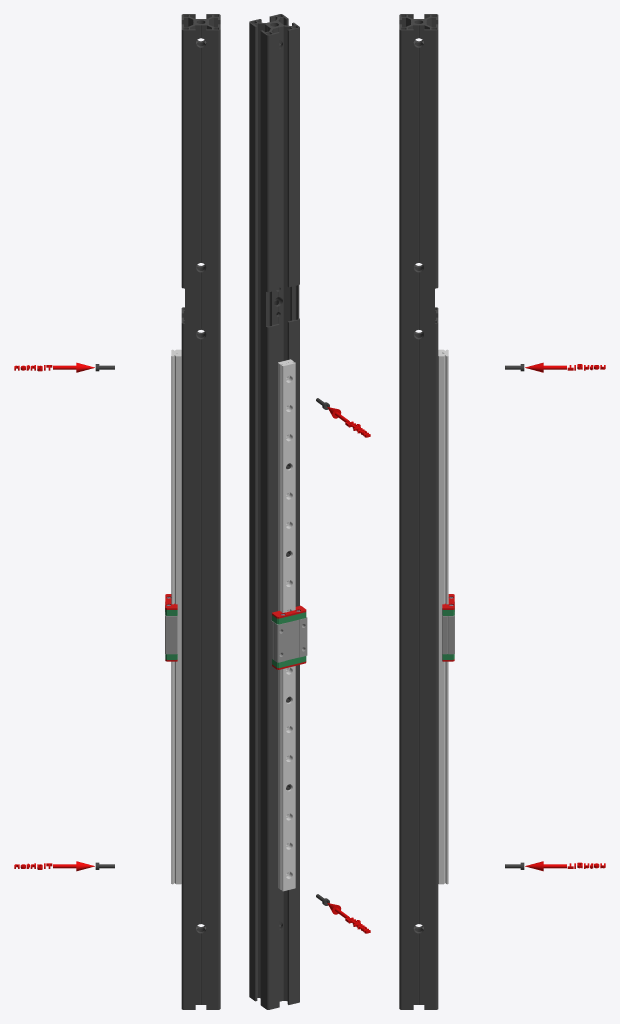
The picture shows the model from 3 angles, left to right: view 1: azimuth 90°, elevation 25°; view 2: azimuth 210°, elevation 25°; view 3: azimuth 270°, elevation 25°; orthographic projection.
Visible parts, largest first — view 1: 01_01__XP__Alu_3030_Pillar___V2.0 v24, MGNR12R450HM_FILE_2 v1, MGN12H, LINEAR GUIDE BLOCK v1; view 2: 01_01__XP__Alu_3030_Pillar___V2.0 v24, MGNR12R450HM_FILE_2 v1, MGN12H, LINEAR GUIDE BLOCK v1; view 3: 01_01__XP__Alu_3030_Pillar___V2.0 v24, MGNR12R450HM_FILE_2 v1, MGN12H, LINEAR GUIDE BLOCK v1.
Boxes of the visible parts, box(x1,y1,x2,y2) form: 01_01__XP__Alu_3030_Pillar___V2.0 v24: box(181, 14, 220, 1009); MGNR12R450HM_FILE_2 v1: box(171, 349, 181, 884); MGN12H, LINEAR GUIDE BLOCK v1: box(165, 602, 177, 654); 01_01__XP__Alu_3030_Pillar___V2.0 v24: box(249, 14, 299, 1009); MGNR12R450HM_FILE_2 v1: box(278, 359, 295, 891); MGN12H, LINEAR GUIDE BLOCK v1: box(271, 617, 307, 662); 01_01__XP__Alu_3030_Pillar___V2.0 v24: box(399, 14, 438, 1009); MGNR12R450HM_FILE_2 v1: box(438, 349, 448, 884); MGN12H, LINEAR GUIDE BLOCK v1: box(442, 602, 454, 654).
Size of the model in its own units: 0.03 by 0.835 by 0.1592.
